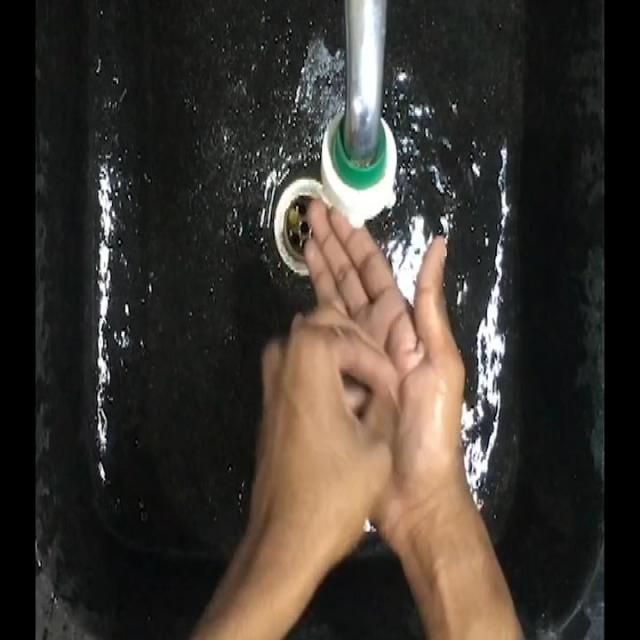step_6: (244, 191, 473, 561)
